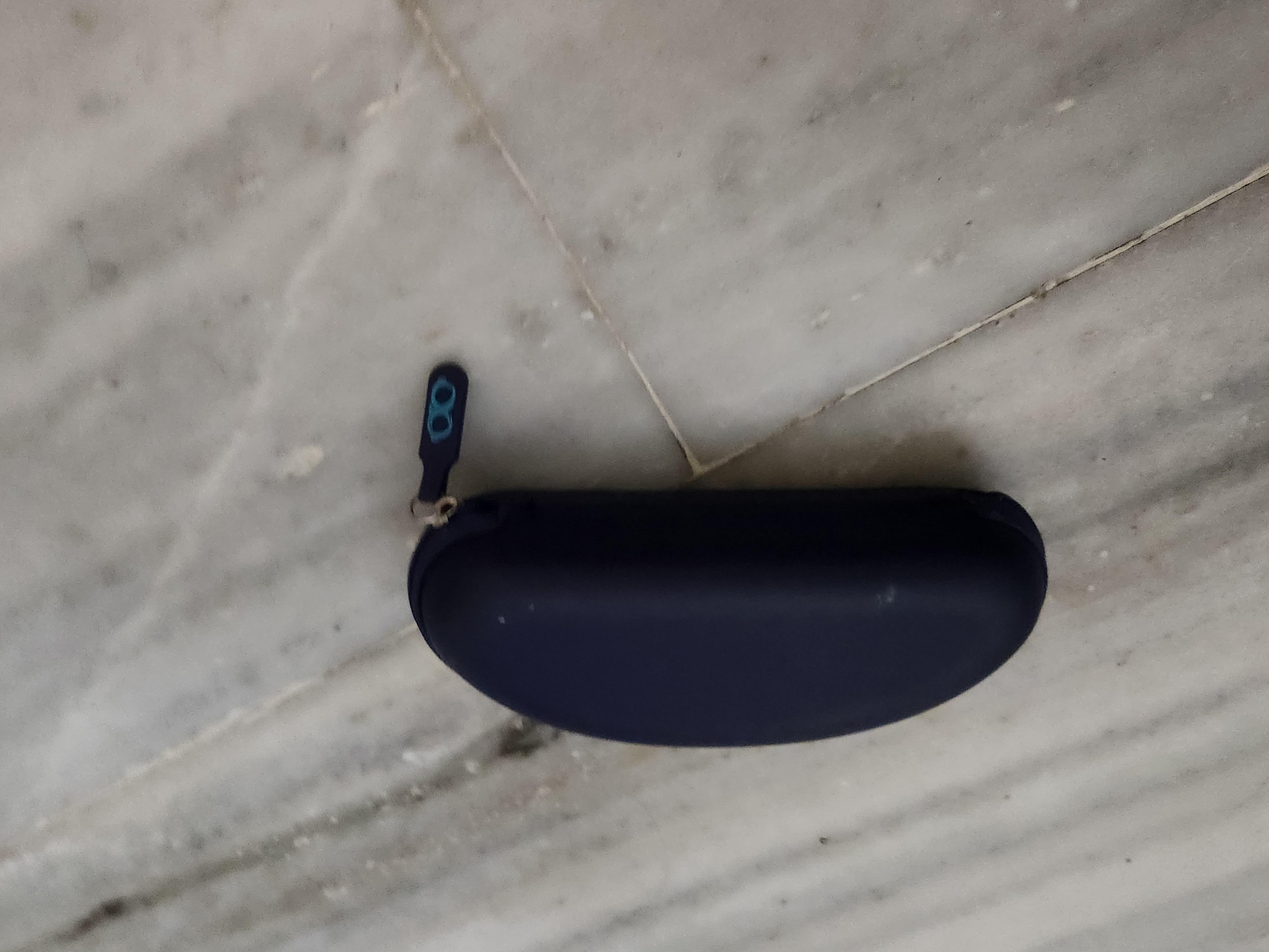case: (262, 298, 858, 794)
